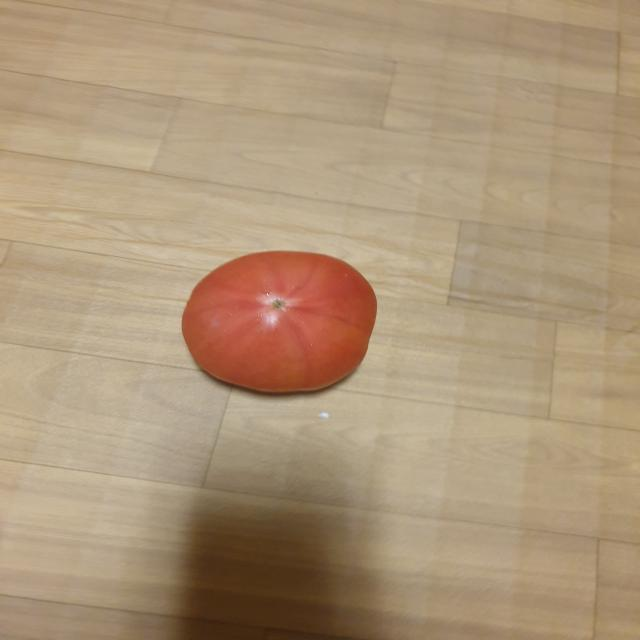tomato: (181, 252, 379, 398)
